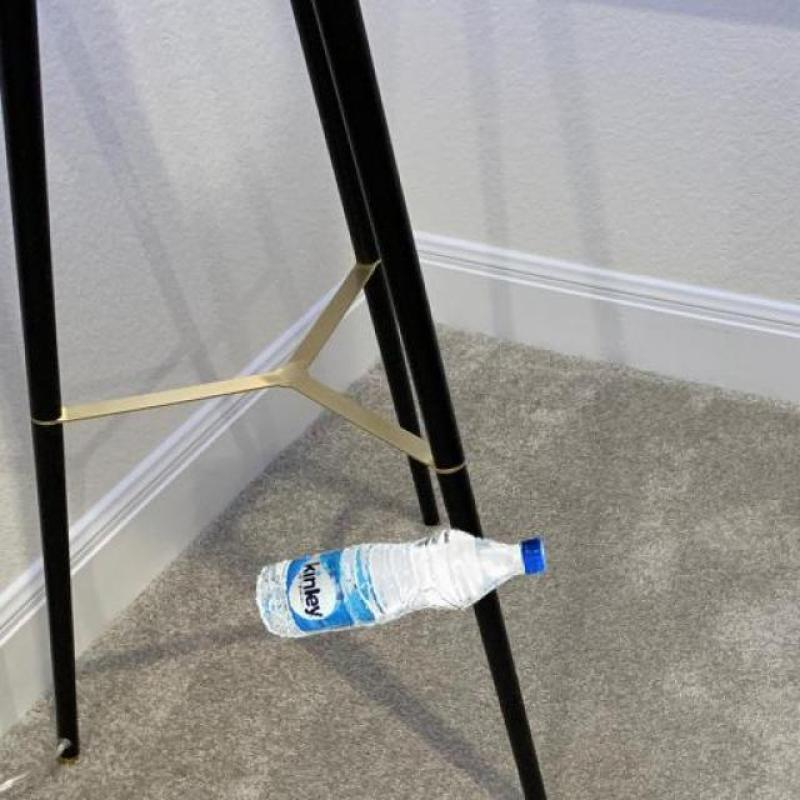botella: (256, 526, 549, 638)
